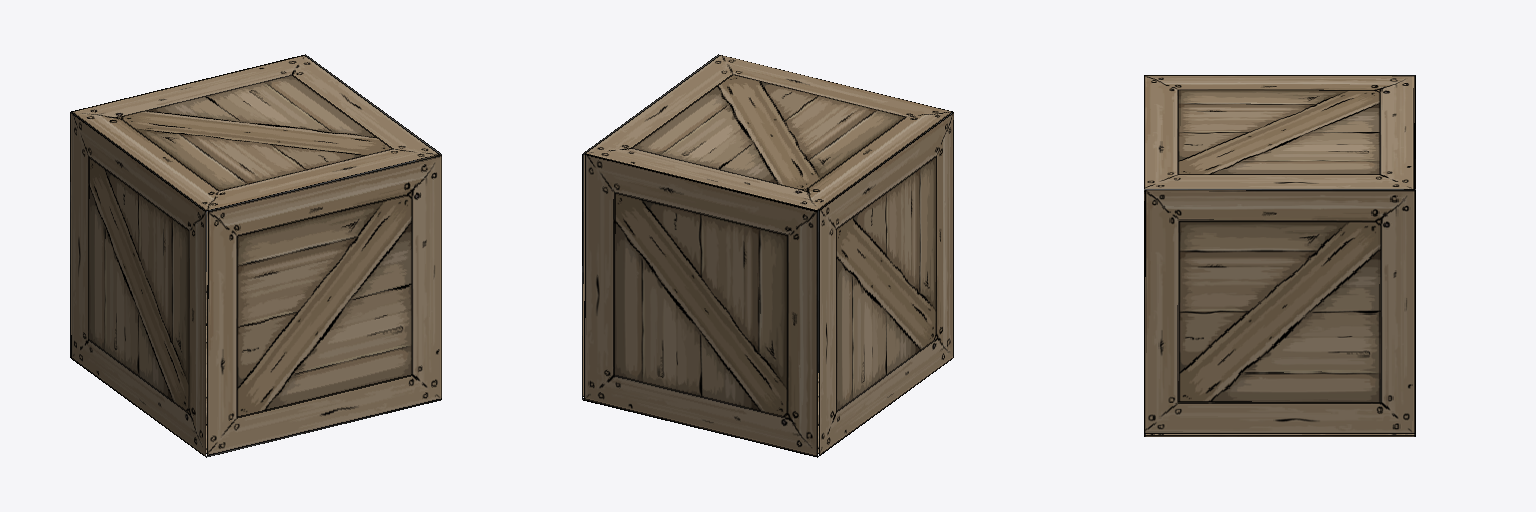
3 renders of one model, left to right at view 1: azimuth 30°, elevation 25°; view 2: azimuth 150°, elevation 25°; view 3: azimuth 270°, elevation 25°, orthographic.
Parts seen in each view (by area): view 1: Cube; view 2: Cube; view 3: Cube.
Part boxes in pixels (left/top/right/bottom): Cube: left=70, top=54, right=441, bottom=457; Cube: left=582, top=54, right=953, bottom=457; Cube: left=1144, top=75, right=1415, bottom=436.
Size of the model in its own units: 2 by 2 by 2.
1 materials, 1 textured.